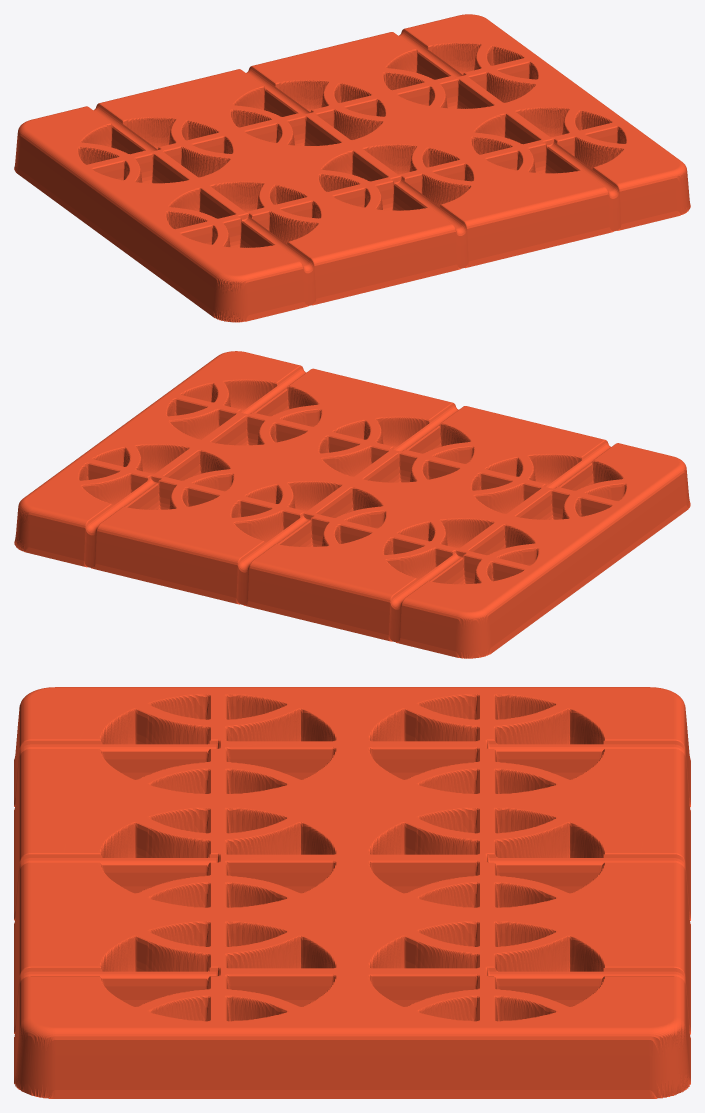
The model's file is mold.glb.
3 views of the same model, one above another, from view 1: azimuth 30°, elevation 25°; view 2: azimuth 150°, elevation 25°; view 3: azimuth 270°, elevation 25° (orthographic). The views are drawn at different scales.
Visible parts, largest first — view 1: geometry_0; view 2: geometry_0; view 3: geometry_0.
Part boxes in pixels (x1=…): geometry_0: x1=14, y1=14, x2=690, y2=322; geometry_0: x1=14, y1=351, x2=690, y2=658; geometry_0: x1=14, y1=687, x2=690, y2=1098.
Bounding box in the file's own units: 0.1824 × 0.0155 × 0.1477.
